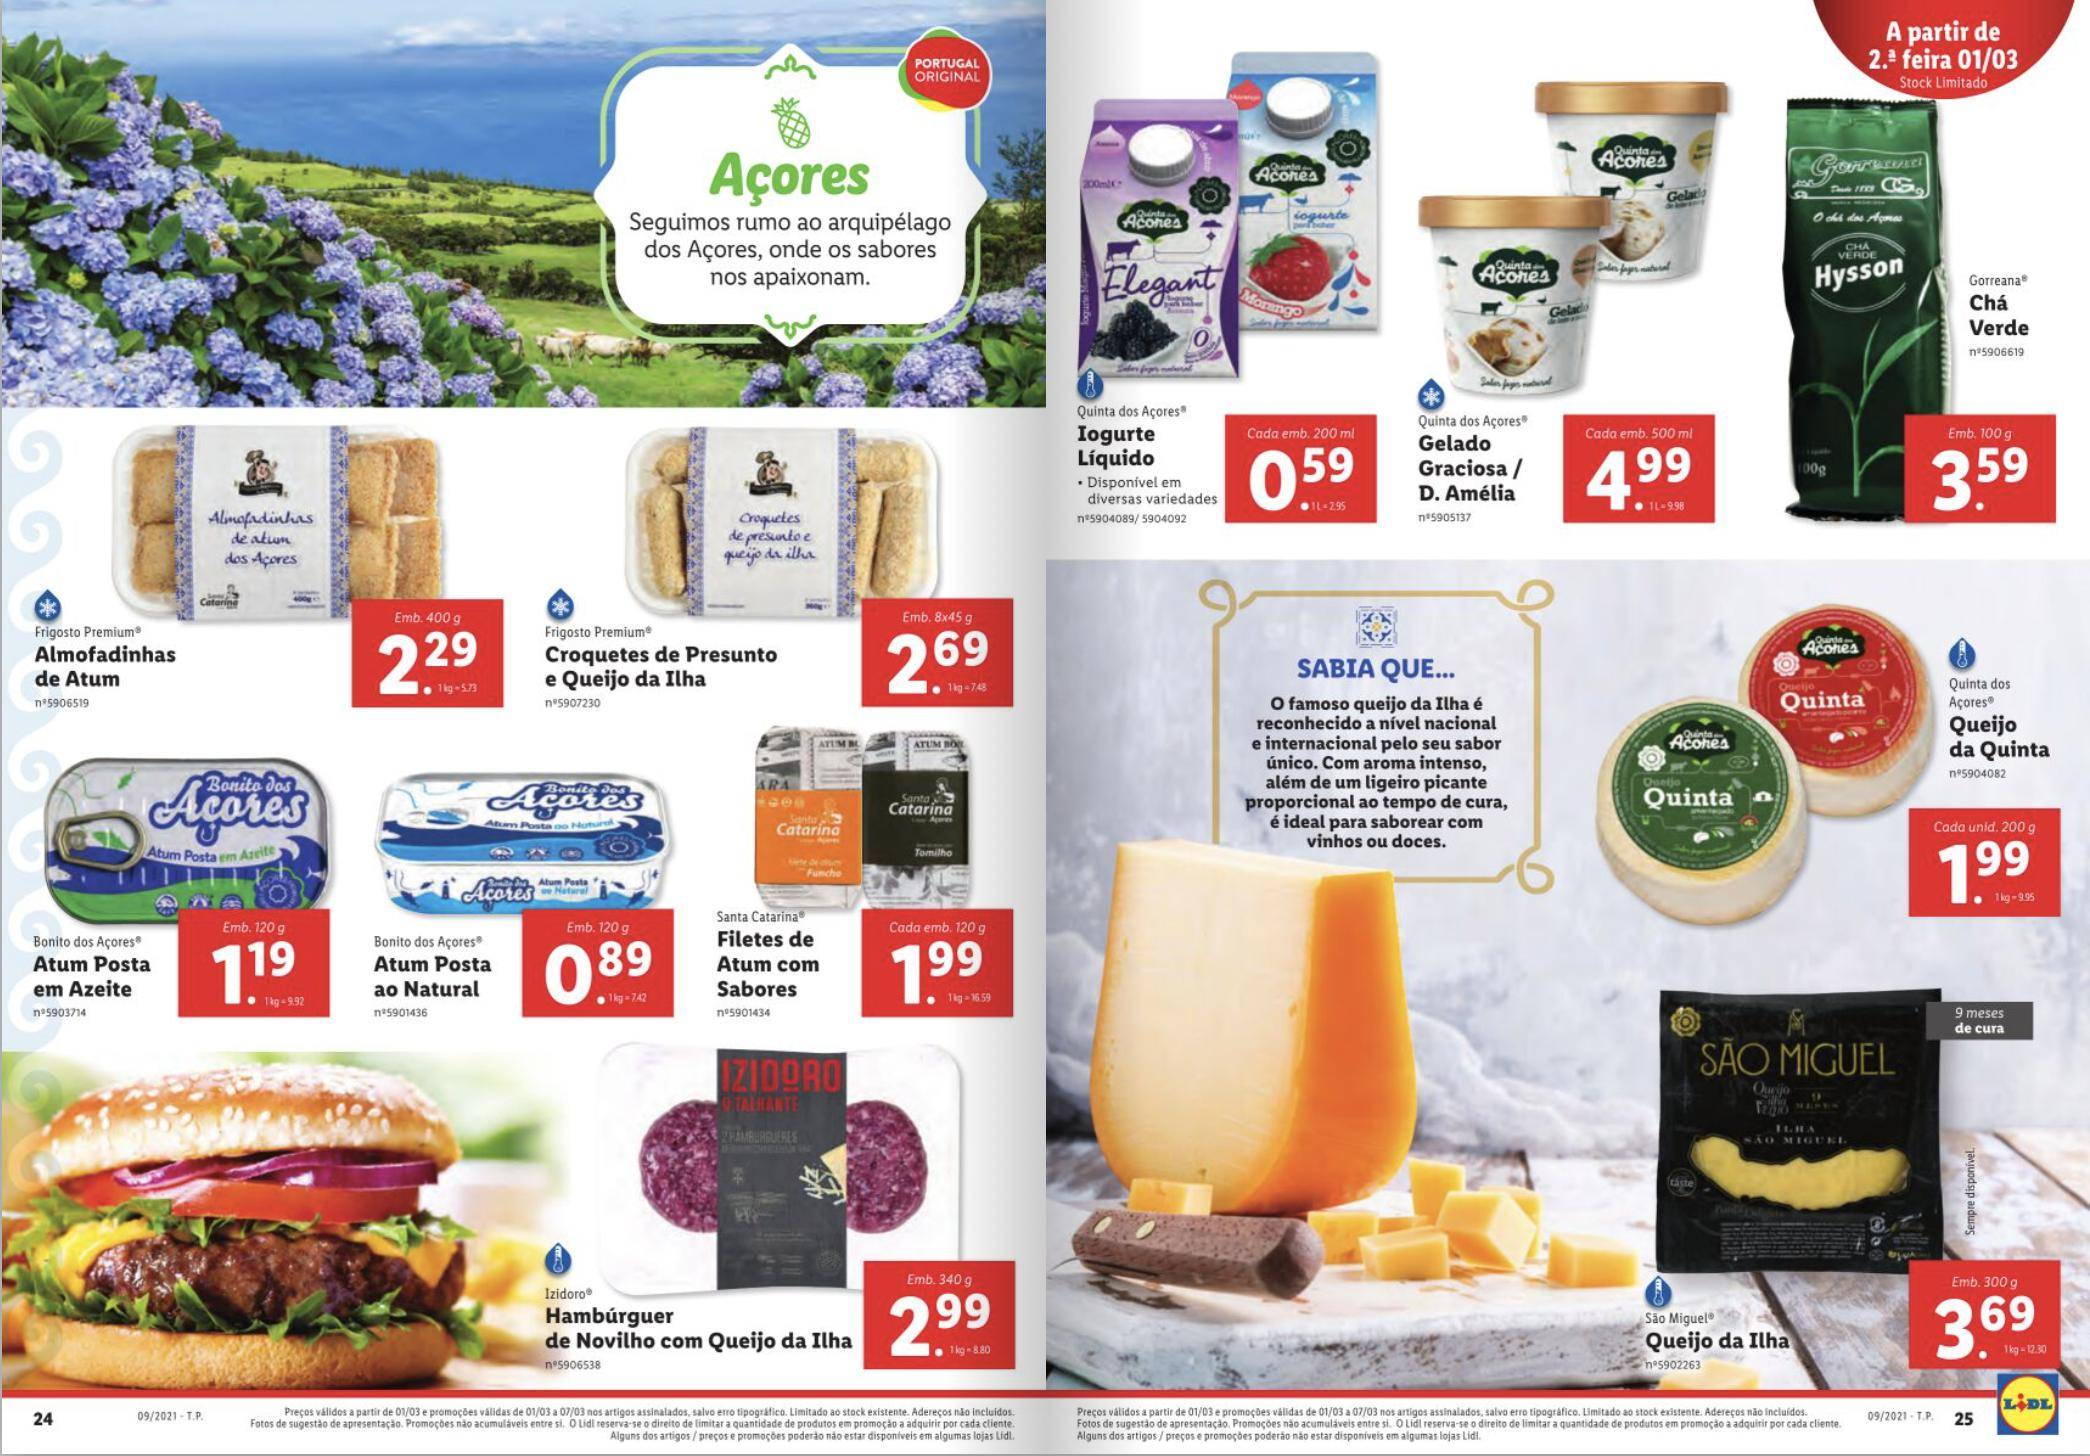name: (534, 1304, 861, 1361), (530, 635, 786, 697), (24, 632, 195, 694), (1415, 429, 1536, 514), (711, 923, 824, 1003), (365, 946, 499, 1005), (27, 949, 160, 1005), (1942, 711, 2060, 767), (1648, 1319, 1801, 1361), (1960, 291, 2050, 348), (1070, 422, 1166, 473)
price: (373, 619, 496, 703), (1242, 441, 1364, 522), (1926, 835, 2046, 915), (545, 935, 672, 1008), (1923, 441, 2042, 518), (886, 1288, 1001, 1367), (1933, 1288, 2039, 1364), (896, 938, 997, 1011), (1590, 445, 1698, 511), (889, 629, 993, 688), (214, 946, 303, 1005)
product: (1564, 980, 2074, 1381), (1574, 587, 2080, 949), (1051, 35, 1404, 538), (524, 1029, 1028, 1380), (1404, 56, 1764, 538), (6, 411, 521, 729), (524, 411, 1028, 708), (1764, 70, 2074, 549), (689, 708, 1035, 1011), (10, 753, 351, 1035), (351, 753, 689, 1008)
